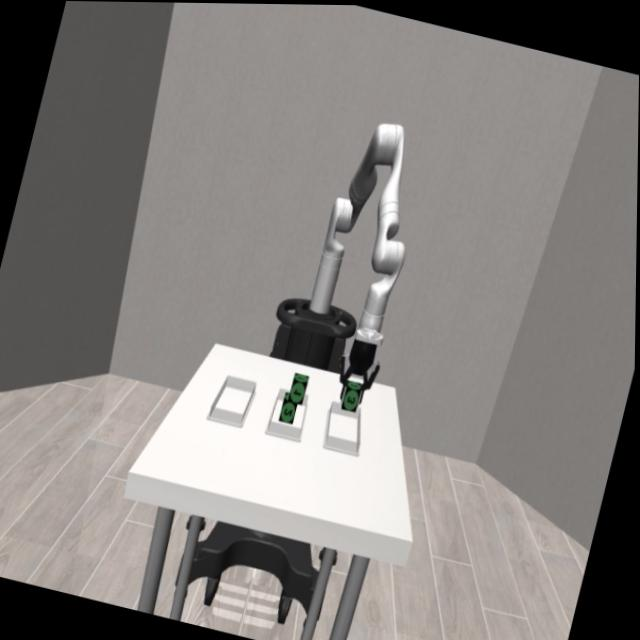cube1: (288, 370, 310, 406)
cube2: (278, 392, 301, 424)
cube3: (339, 377, 364, 413)
